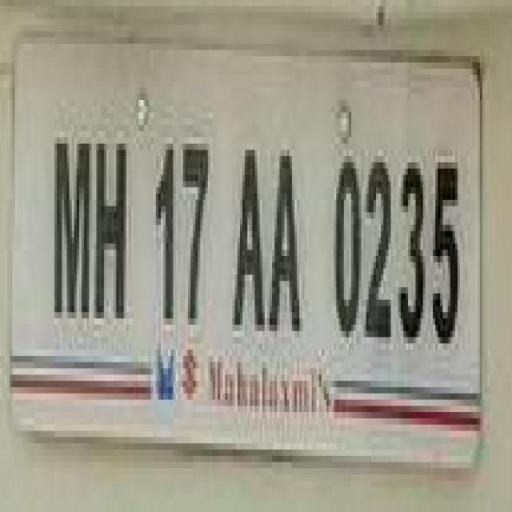number plate: (0, 12, 487, 431)
